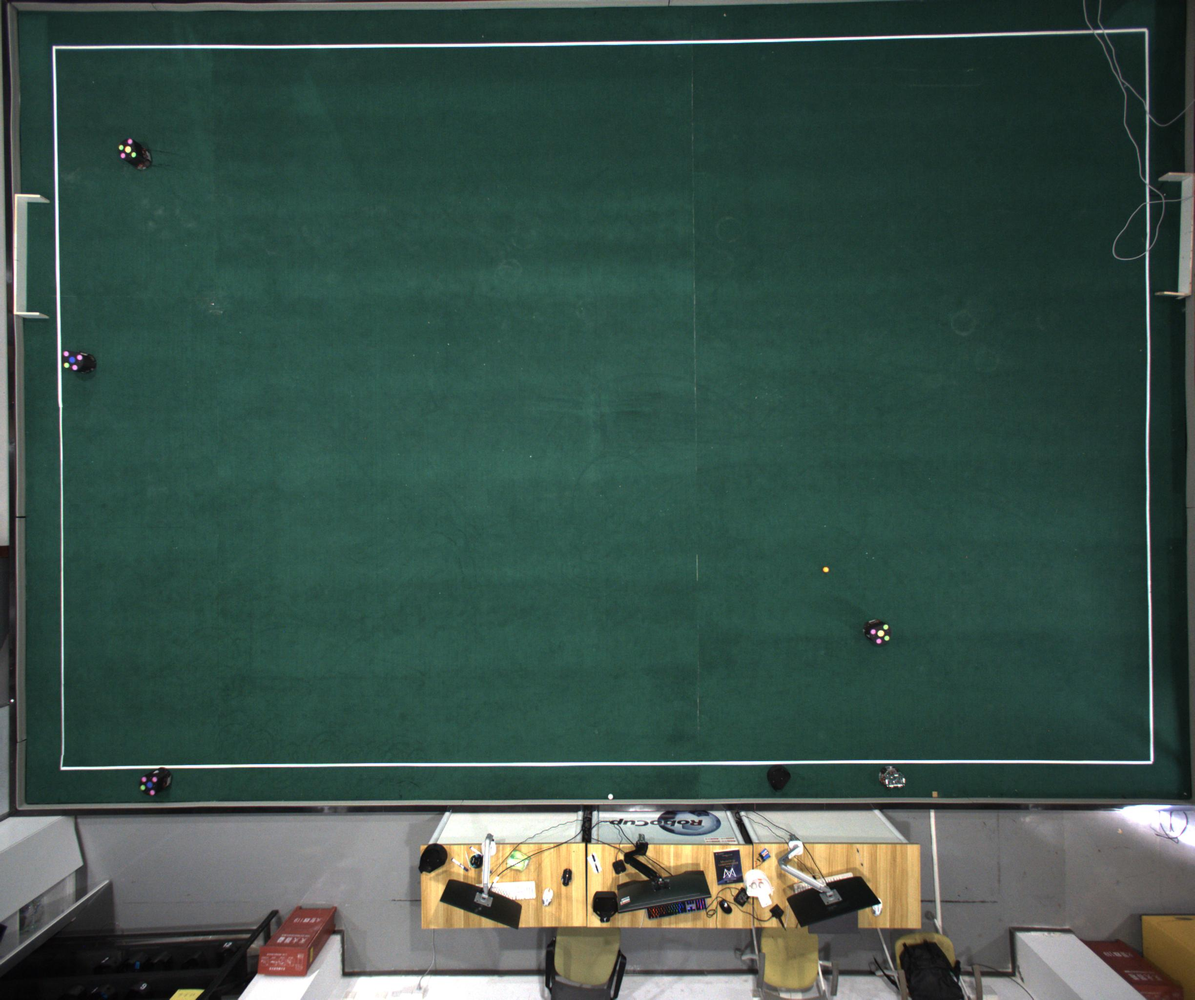ball: (823, 566, 830, 573)
blue_bot: (61, 351, 86, 372), (870, 623, 891, 646), (140, 774, 158, 798)
yellow_bot: (119, 137, 138, 161)
